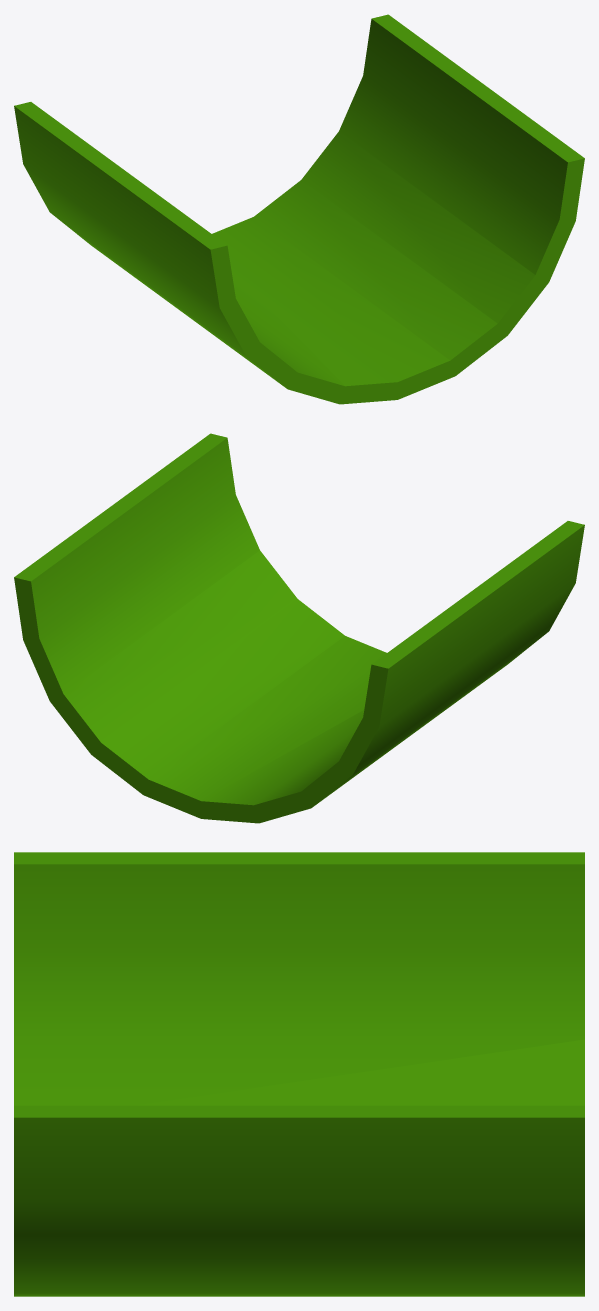
File: PipeStraight.fbx
3 views of the same model, one above another, from view 1: azimuth 30°, elevation 25°; view 2: azimuth 150°, elevation 25°; view 3: azimuth 270°, elevation 25° (orthographic). The views are drawn at different scales.
Parts seen in each view (by area): view 1: StraightSegment; view 2: StraightSegment; view 3: StraightSegment.
Boxes of the visible parts, box(x1,y1,x2,y2) form: StraightSegment: box(14, 14, 584, 404); StraightSegment: box(14, 433, 584, 823); StraightSegment: box(14, 852, 584, 1296).
Size of the model in its own units: 2.2 by 1.1 by 2.
